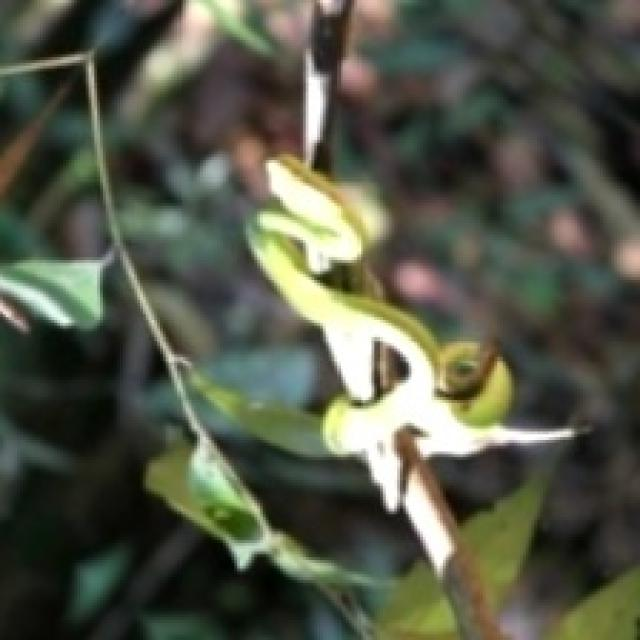north ph temple pitviper: (249, 154, 571, 509)
